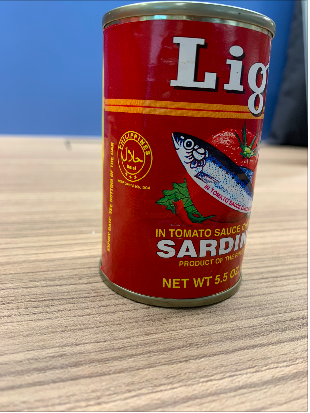Sardines_100-199g: (108, 22, 247, 290)
